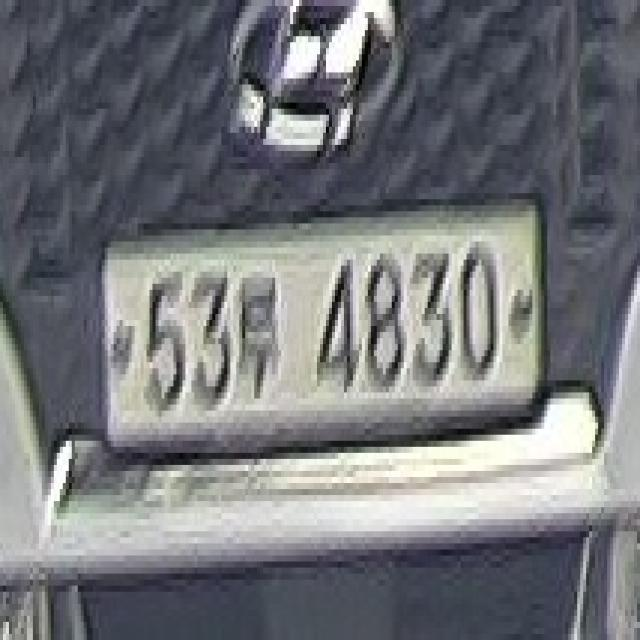0: (458, 230, 502, 392)
3: (410, 235, 458, 398), (186, 266, 237, 416)
4: (305, 242, 362, 404)
5: (144, 260, 188, 410)
8: (359, 248, 407, 417)
du: (227, 272, 281, 404)
license_plate: (102, 193, 547, 465)
